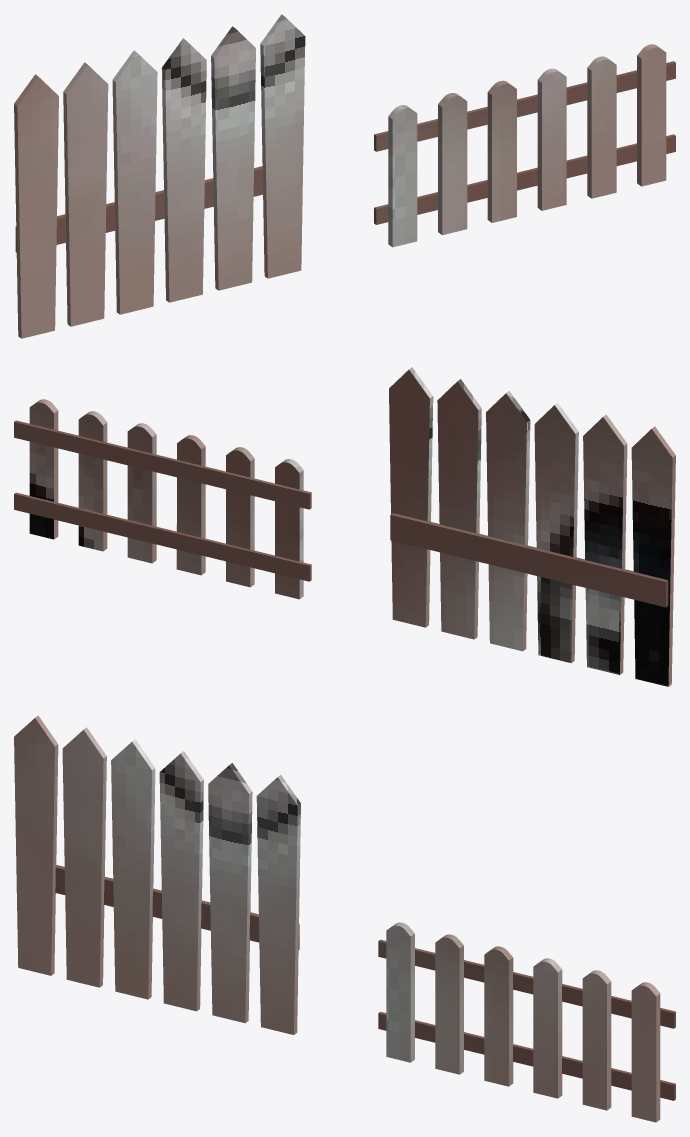
File: wooden-fences-pbr-modular-version-3.fbx
The picture shows the model from 3 angles, top to bottom: view 1: azimuth 30°, elevation 25°; view 2: azimuth 150°, elevation 25°; view 3: azimuth 330°, elevation 25°; orthographic projection.
Parts seen in each view (by area): view 1: FenceBig3_low_lambert1_0, FenceBig1_low_lambert1_0, FenceBig5_low_lambert1_0, FenceBig7_low_lambert1_0, FenceBig4_low_lambert1_0, FenceBig6_low_lambert1_0, FenceSmall7_low_lambert1_0, FenceSmall6_low_lambert1_0, FenceSmall8_low_lambert1_0, FenceSmall3_low_lambert1_0, FenceSmall4_low_lambert1_0, FenceSmall5_low_lambert1_0 (+3 smaller); view 2: FenceBig1_low_lambert1_0, FenceBig5_low_lambert1_0, FenceBig7_low_lambert1_0, FenceBig4_low_lambert1_0, FenceBig6_low_lambert1_0, FenceBig3_low_lambert1_0, FenceBig2_low_lambert1_0, FenceSmall2_low_lambert1_0, FenceSmall1_low_lambert1_0, FenceSmall7_low_lambert1_0, FenceSmall6_low_lambert1_0, FenceSmall8_low_lambert1_0 (+3 smaller); view 3: FenceBig7_low_lambert1_0, FenceBig5_low_lambert1_0, FenceBig4_low_lambert1_0, FenceBig1_low_lambert1_0, FenceBig3_low_lambert1_0, FenceBig6_low_lambert1_0, FenceSmall8_low_lambert1_0, FenceSmall7_low_lambert1_0, FenceSmall6_low_lambert1_0, FenceSmall5_low_lambert1_0, FenceSmall4_low_lambert1_0, FenceSmall3_low_lambert1_0 (+3 smaller).
Boxes of the visible parts, <box> form: FenceBig3_low_lambert1_0: <box>112,50,157,314</box>; FenceBig1_low_lambert1_0: <box>14,74,58,338</box>; FenceBig5_low_lambert1_0: <box>161,38,206,302</box>; FenceBig7_low_lambert1_0: <box>260,14,305,278</box>; FenceBig4_low_lambert1_0: <box>63,62,108,326</box>; FenceBig6_low_lambert1_0: <box>211,26,255,290</box>; FenceSmall7_low_lambert1_0: <box>587,56,616,198</box>; FenceSmall6_low_lambert1_0: <box>537,68,566,210</box>; FenceSmall8_low_lambert1_0: <box>637,44,666,186</box>; FenceSmall3_low_lambert1_0: <box>388,105,417,247</box>; FenceSmall4_low_lambert1_0: <box>438,93,467,235</box>; FenceSmall5_low_lambert1_0: <box>487,80,516,222</box>; FenceBig1_low_lambert1_0: <box>631,426,675,686</box>; FenceBig5_low_lambert1_0: <box>486,391,530,651</box>; FenceBig7_low_lambert1_0: <box>389,367,433,627</box>; FenceBig4_low_lambert1_0: <box>583,414,627,674</box>; FenceBig6_low_lambert1_0: <box>437,379,481,639</box>; FenceBig3_low_lambert1_0: <box>534,403,578,663</box>; FenceBig2_low_lambert1_0: <box>390,513,668,607</box>; FenceSmall2_low_lambert1_0: <box>14,420,311,509</box>; FenceSmall1_low_lambert1_0: <box>14,492,311,581</box>; FenceSmall7_low_lambert1_0: <box>78,411,107,551</box>; FenceSmall6_low_lambert1_0: <box>127,423,156,563</box>; FenceSmall8_low_lambert1_0: <box>29,399,58,539</box>; FenceBig7_low_lambert1_0: <box>256,775,300,1034</box>; FenceBig5_low_lambert1_0: <box>159,751,203,1011</box>; FenceBig4_low_lambert1_0: <box>62,727,106,987</box>; FenceBig1_low_lambert1_0: <box>14,715,58,975</box>; FenceBig3_low_lambert1_0: <box>111,739,155,999</box>; FenceBig6_low_lambert1_0: <box>208,763,252,1023</box>; FenceSmall8_low_lambert1_0: <box>631,982,660,1122</box>; FenceSmall7_low_lambert1_0: <box>582,970,611,1110</box>; FenceSmall6_low_lambert1_0: <box>533,958,562,1098</box>; FenceSmall5_low_lambert1_0: <box>484,946,513,1086</box>; FenceSmall4_low_lambert1_0: <box>435,934,463,1074</box>; FenceSmall3_low_lambert1_0: <box>386,922,414,1062</box>.
Bounding box in the file's own units: 70544 × 26215 × 1406.
